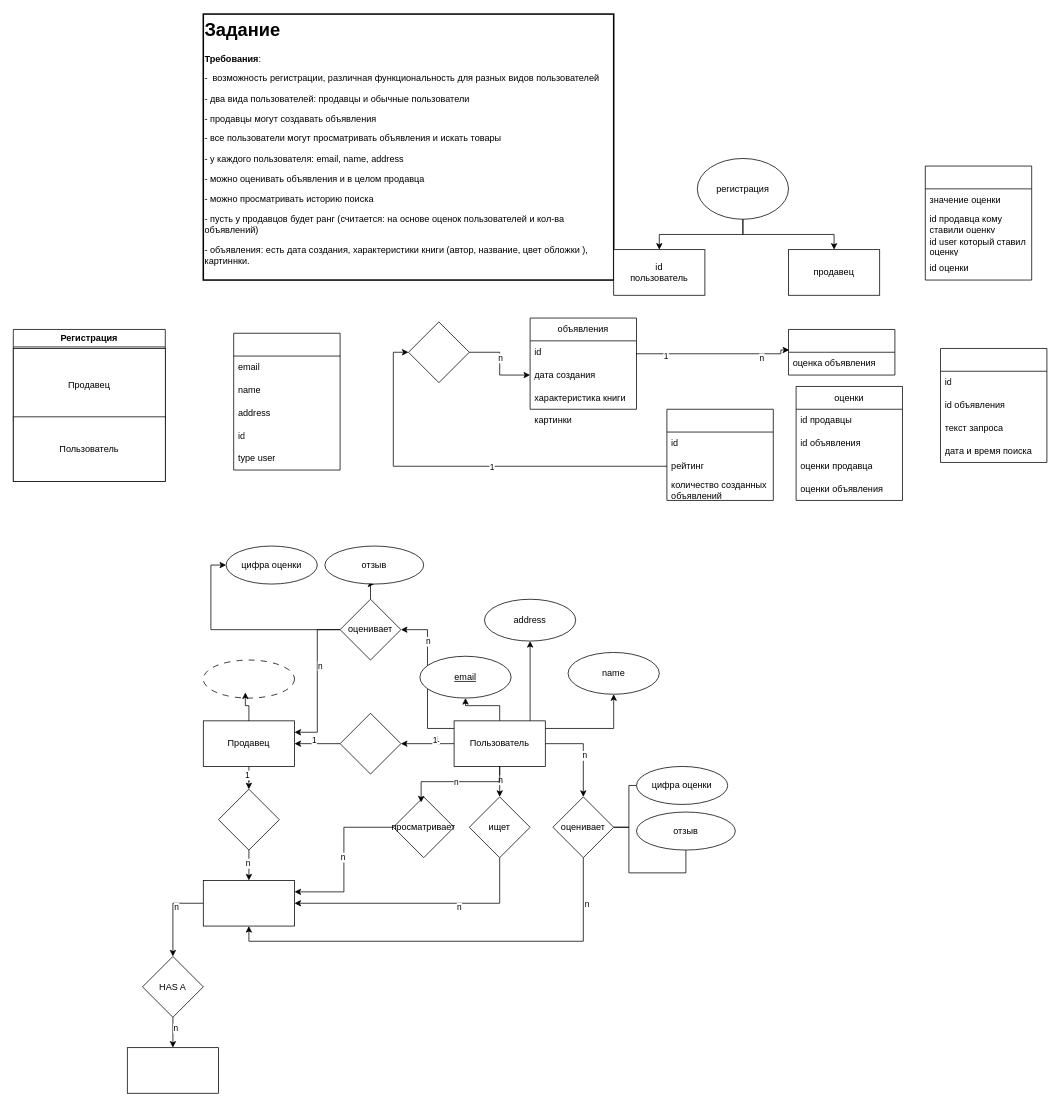
The diagram is 1060 pixels wide and 1107 high, and some of its shapes have lost their labels. Here are the shapes that lost their labels. From the top down, the box of each, then its label:
(925, 165, 1032, 280): оценка
(408, 321, 469, 383): может создавать
(788, 329, 895, 375): оценки объявлений
(233, 332, 340, 470): пользователи
(940, 348, 1047, 462): история поиска
(666, 408, 773, 500): продавцы
(203, 659, 294, 698): Ранг
(339, 712, 401, 774): IS A
(218, 788, 279, 850): Создает
(203, 880, 294, 926): Объявление
(127, 1047, 218, 1093): Книга
